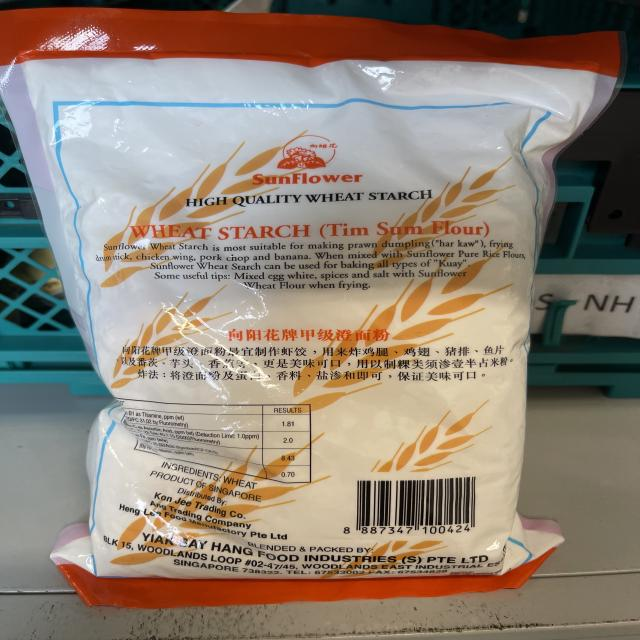object_name: (11, 9, 540, 583)
